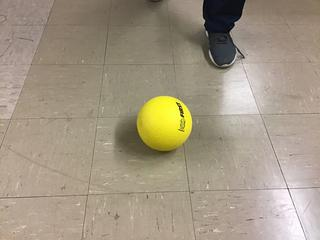power_cell: (135, 92, 198, 152)
